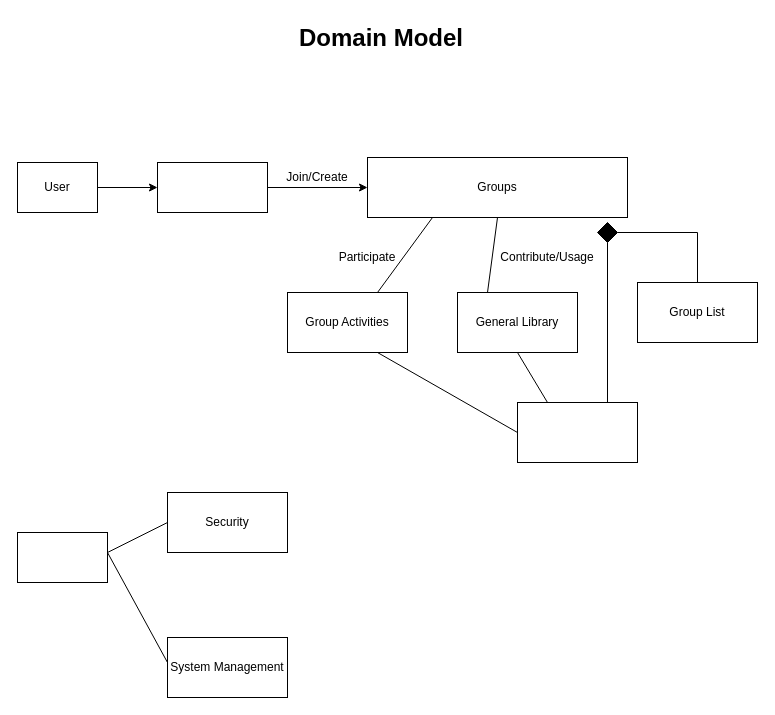
Some shapes in this 775 by 715 pixel diagram are drawn without their labels. The shapes that lost their labels are listed below. From the top down, each one's centre as x and y in pixels, then its label:
At [212,187]: "Login/Signup".
At [577,432]: "Group Ranking System".
At [62,557]: "Admin".
